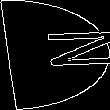N_W: (5, 33, 105, 77)
